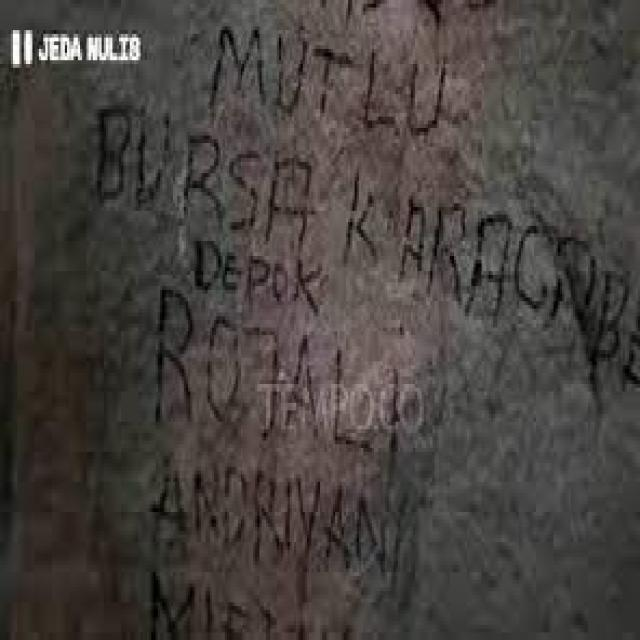nonspitting: (95, 19, 638, 640)
